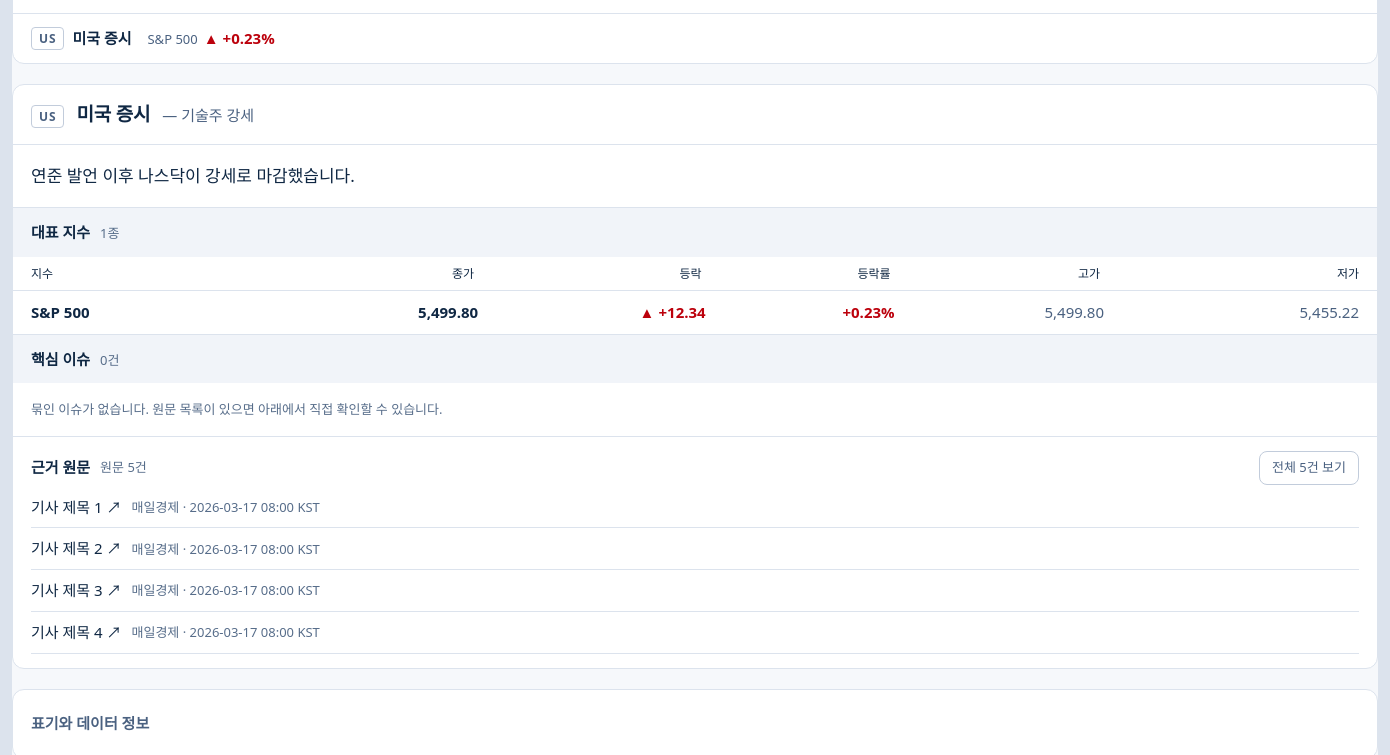
MarketOverviewPage — 근거 원문 › toggles aria-expanded and reveals links beyond the first 4
This screenshot has width=1390, height=755.
(page scrolled)
Expected: the text "기사 제목 5" is not shown
What coordinates should you click on to do the following:
click the button "전체 5건 보기"
I would click on:
 (1309, 468)
Its box is [1259, 451, 1359, 485].
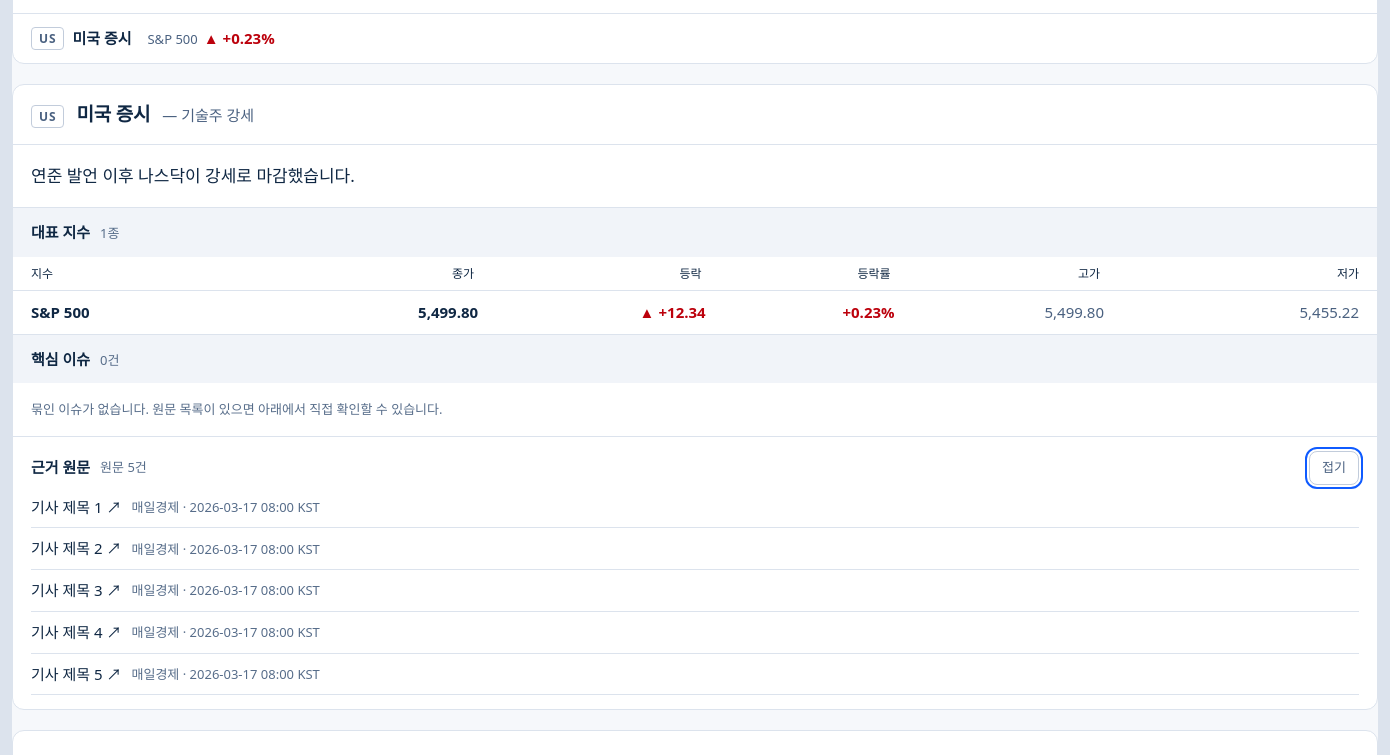
Expected: the button "접기" is expanded, [1309, 451, 1359, 485]
Expected: the link "기사 제목 5 ↗" is shown, [31, 662, 122, 686]
